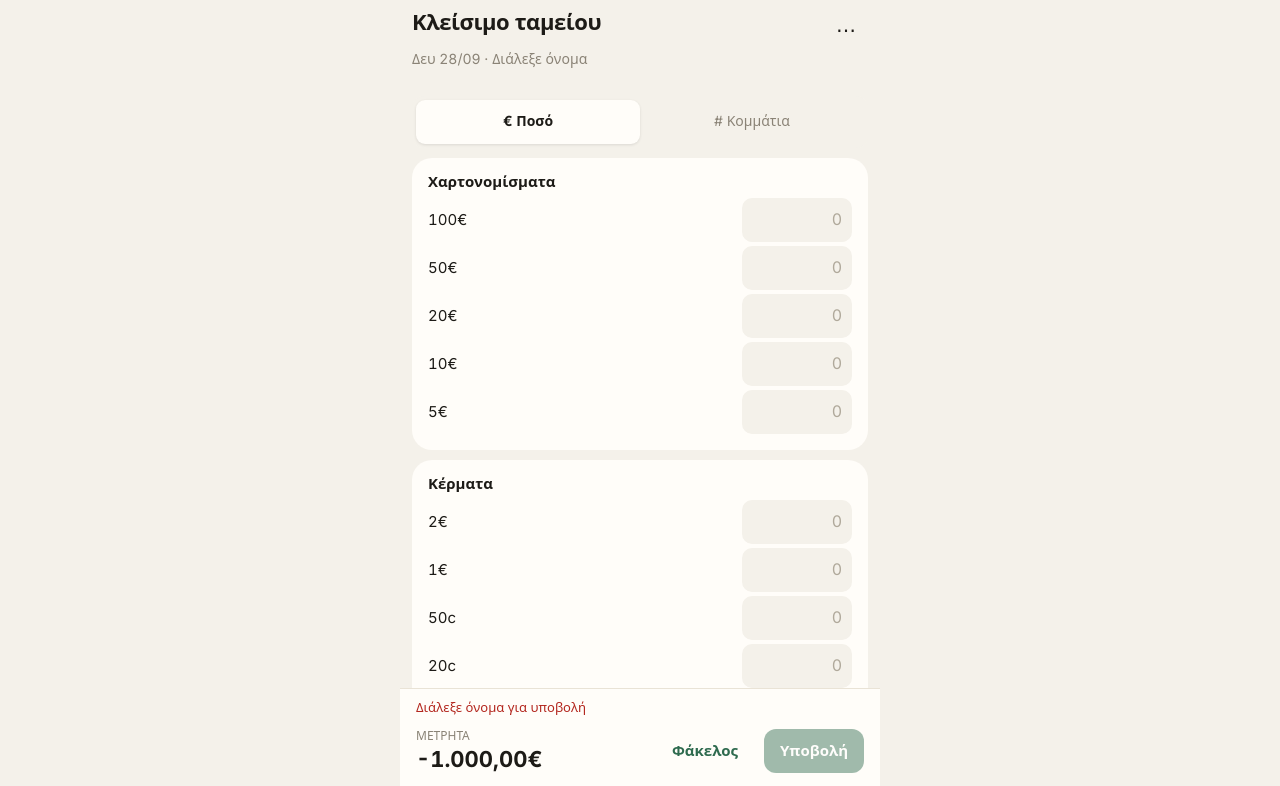
register flows › opens the exact Φάκελος (60€ as 3×20€)
Type "50" into the field named "50€" at (797, 268), box [742,246,852,290]
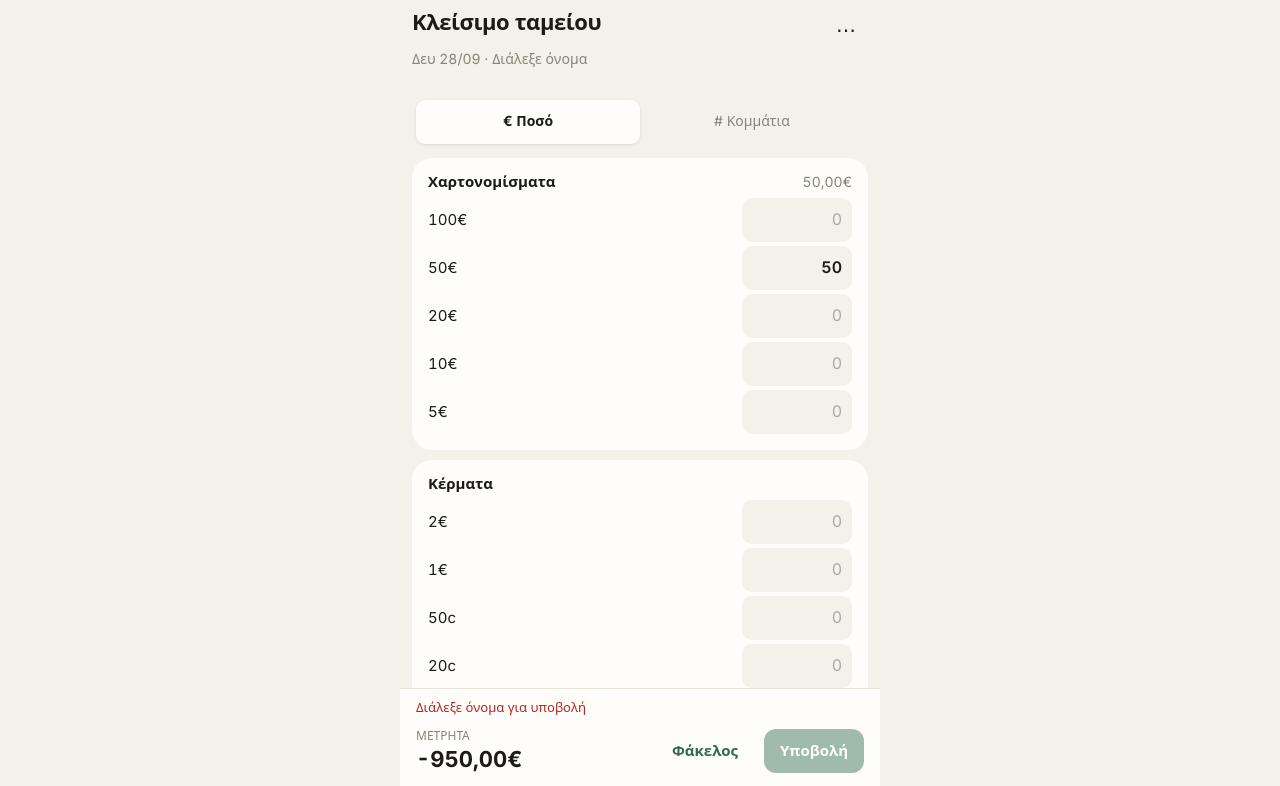
Type "60" into the field named "20€" at (797, 316), box [742,294,852,338]
(page scrolled)
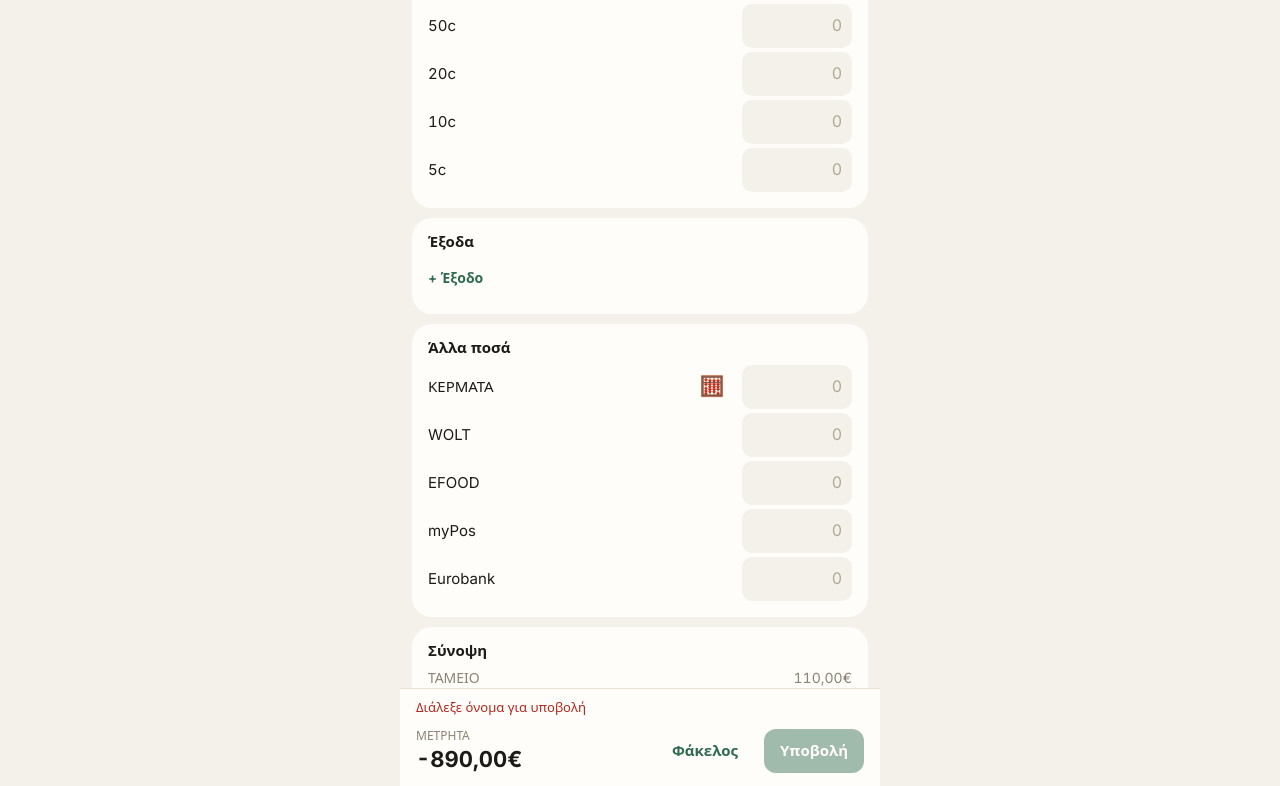
Type "950" into the field named "ΚΕΡΜΑΤΑ" at (797, 387), box [742,365,852,409]
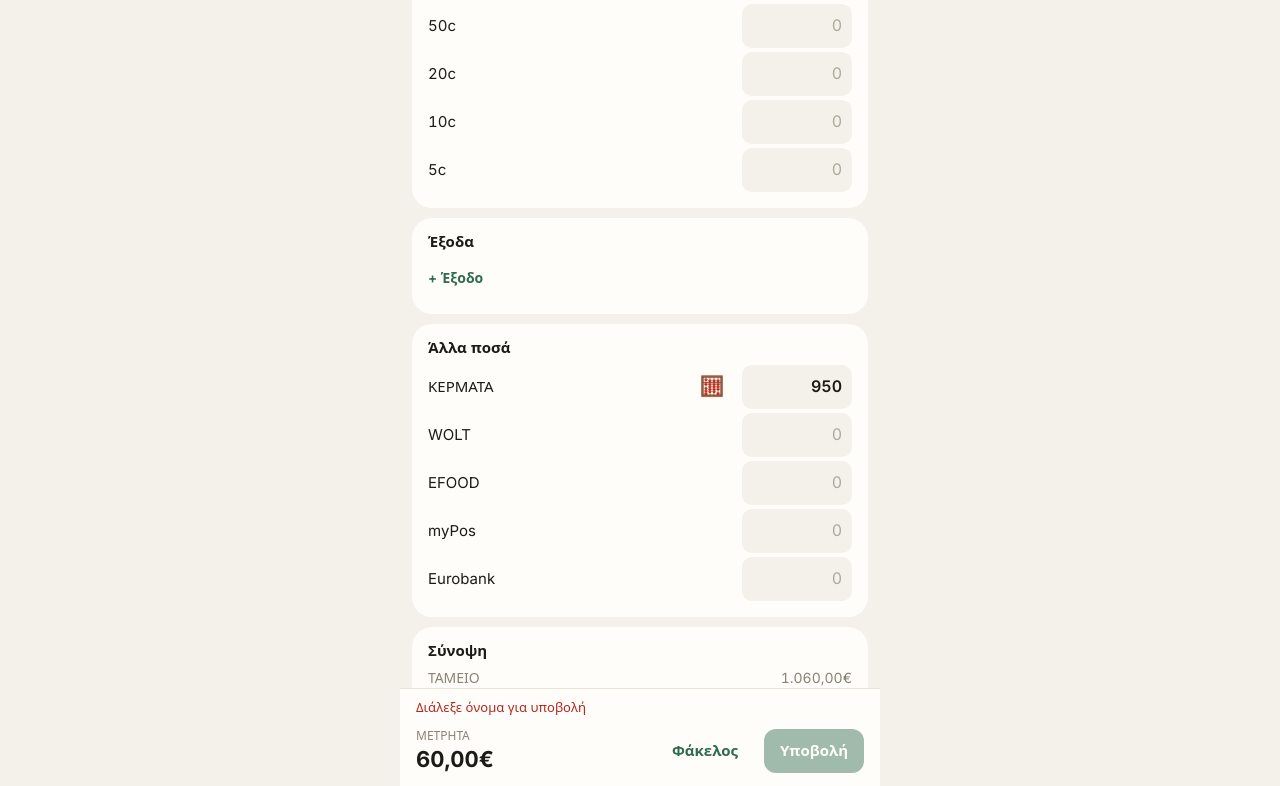
Click the button "Φάκελος" at (705, 751), box [656,729,754,773]
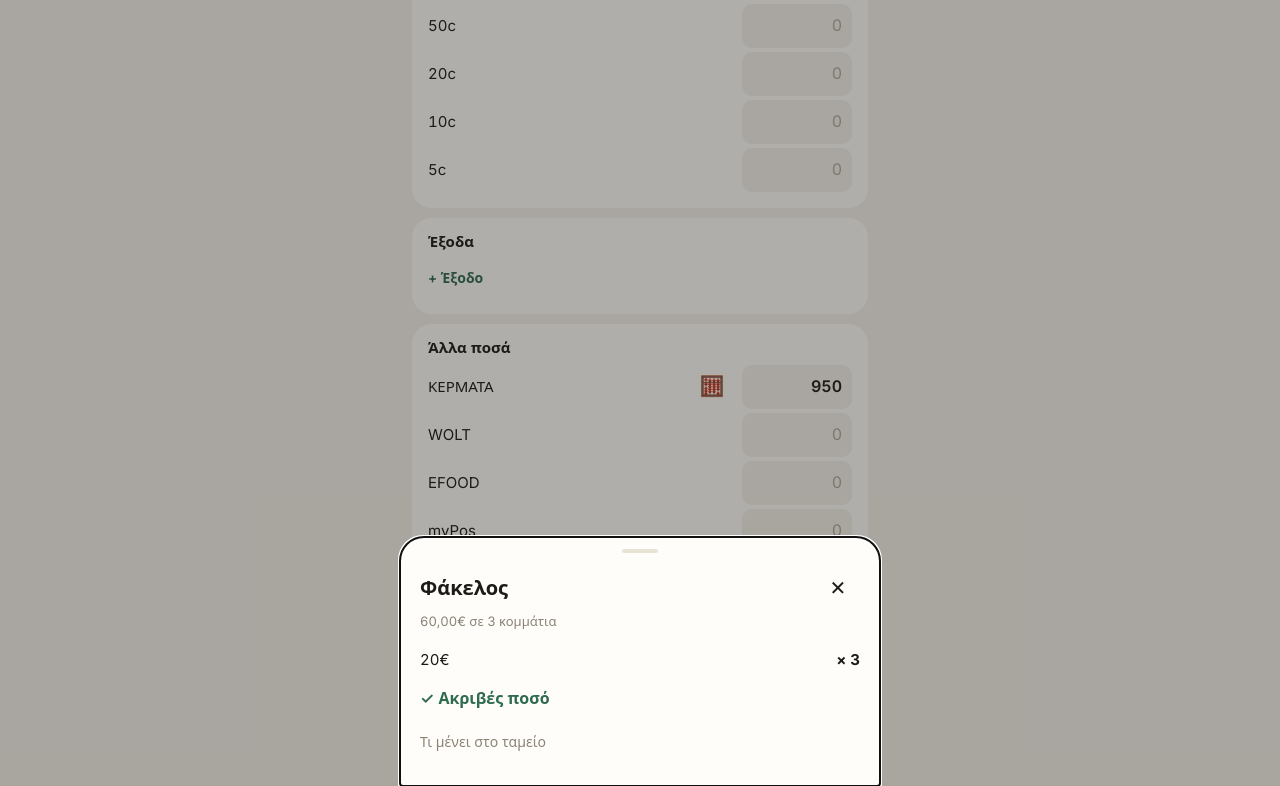
Check: the text "60,00€ σε 3 κομμάτια" is shown, box [420,613,556,629]
Check: the text "✓ Ακριβές ποσό" is shown, box [420,688,550,708]
